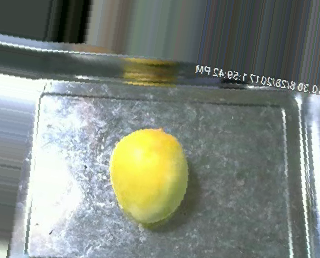Mango: (101, 125, 194, 226)
